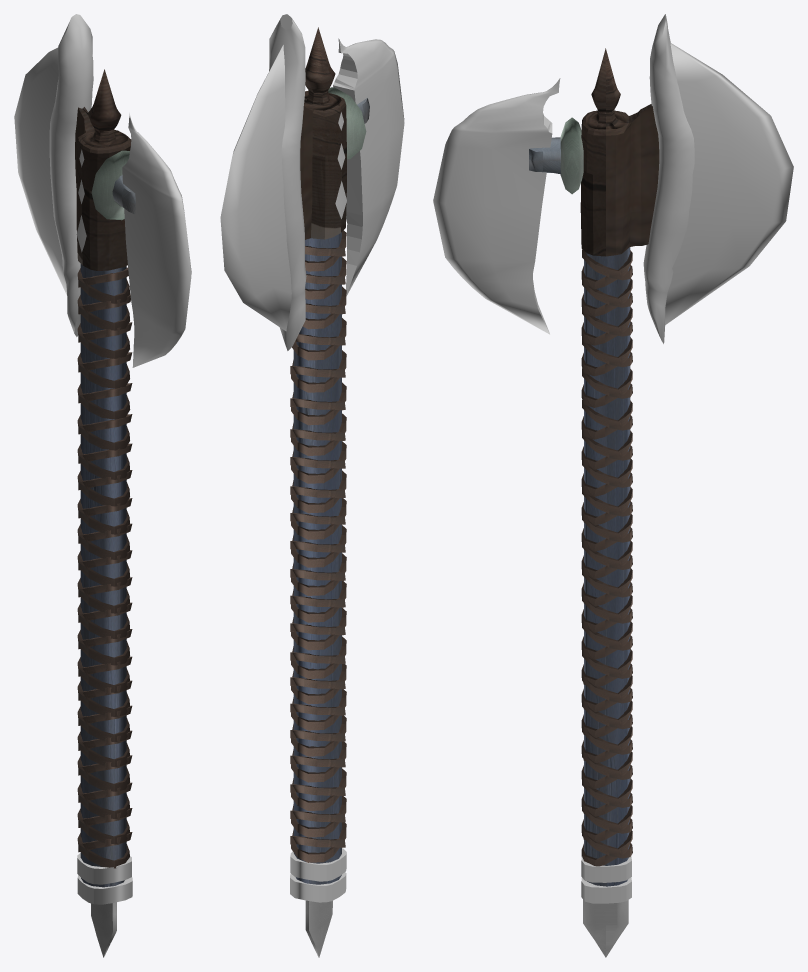
File: hache.FBX
3 views of the same model, side by side, from view 1: azimuth 30°, elevation 25°; view 2: azimuth 150°, elevation 25°; view 3: azimuth 270°, elevation 25° (orthographic). The views are drawn at different scales.
Visible parts, largest first — view 1: Sphere001; view 2: Sphere001; view 3: Sphere001.
Part boxes in pixels (<box>): Sphere001: <box>14,14,191,957</box>; Sphere001: <box>220,14,404,957</box>; Sphere001: <box>433,14,793,957</box>.
Bounding box in the file's own units: 5.96 × 85.59 × 29.63.
